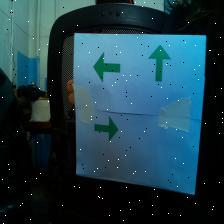left: (93, 52, 121, 82)
right: (95, 116, 119, 141)
